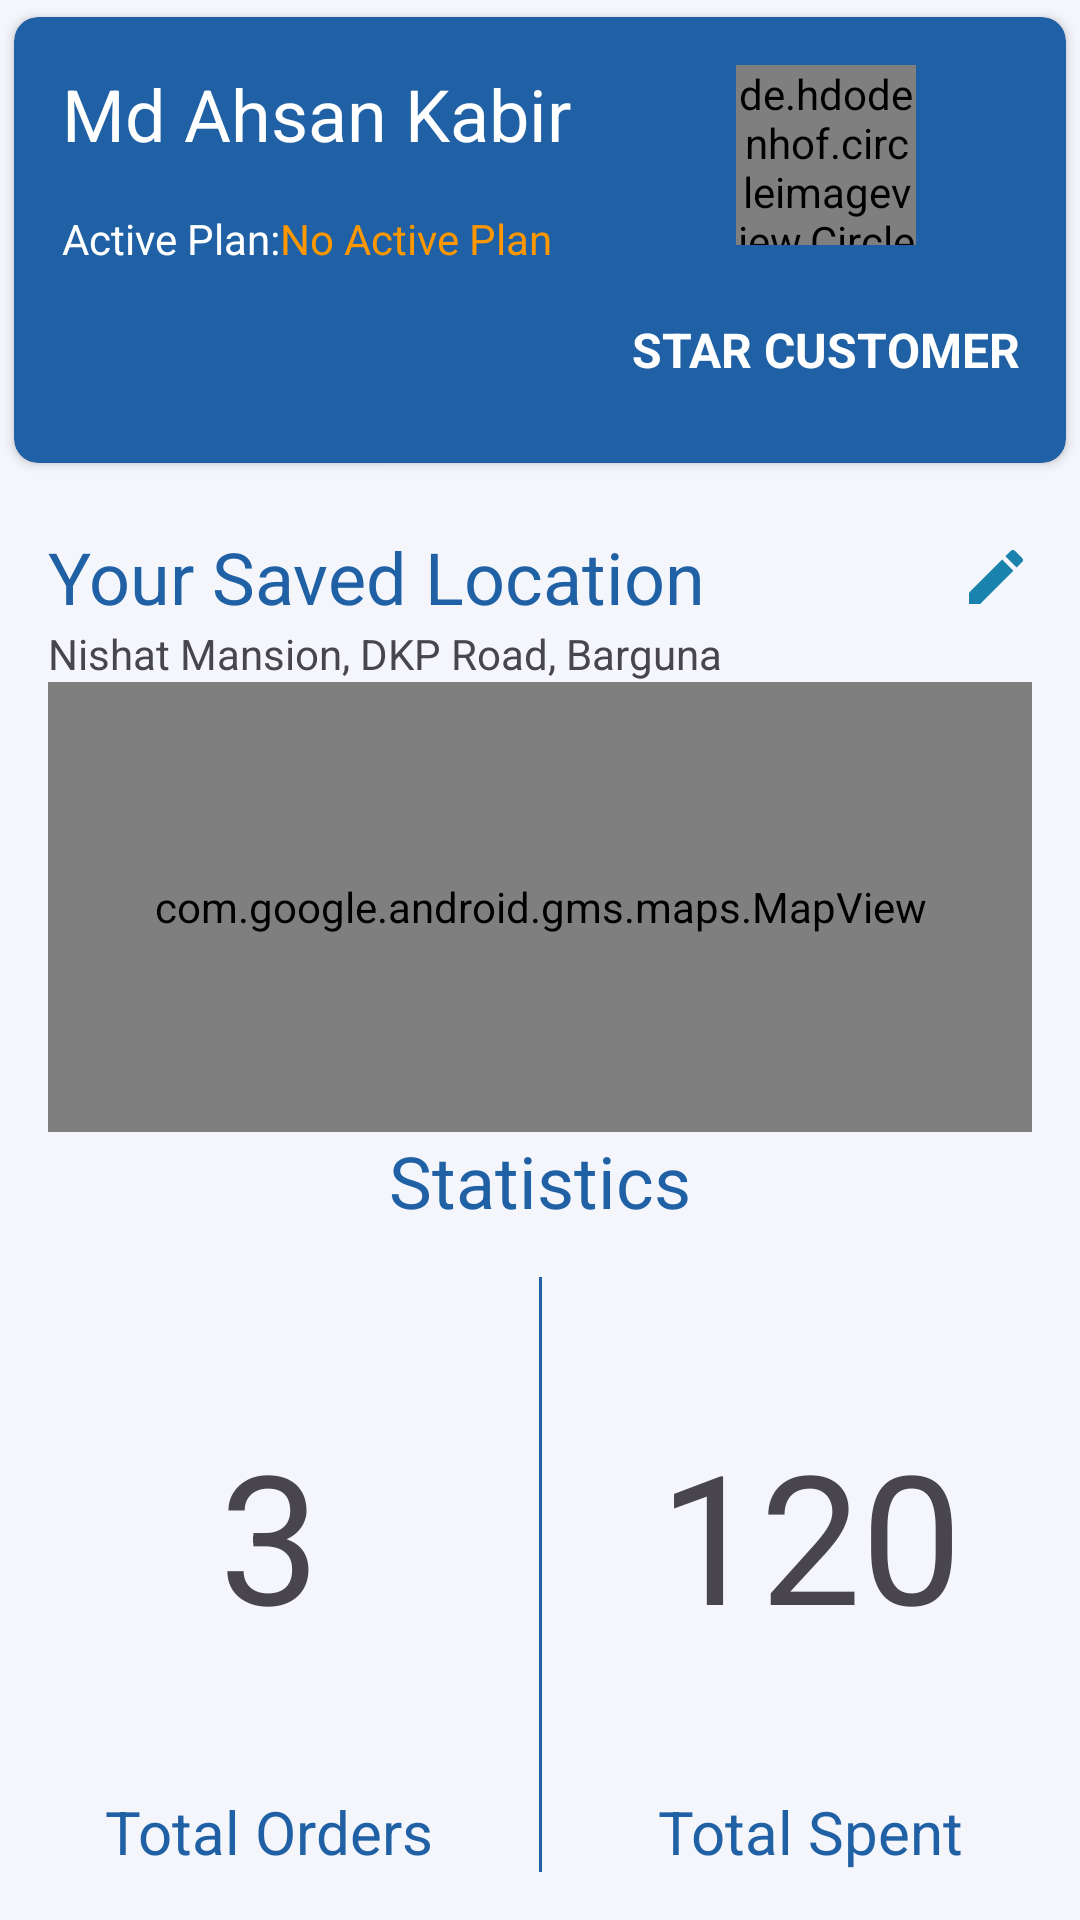

Locate icon controls on the screen. Image size 1080w x 1920h, boxes as (x1, y1, x2, y2).
mode edit: (969, 550, 1023, 604)
